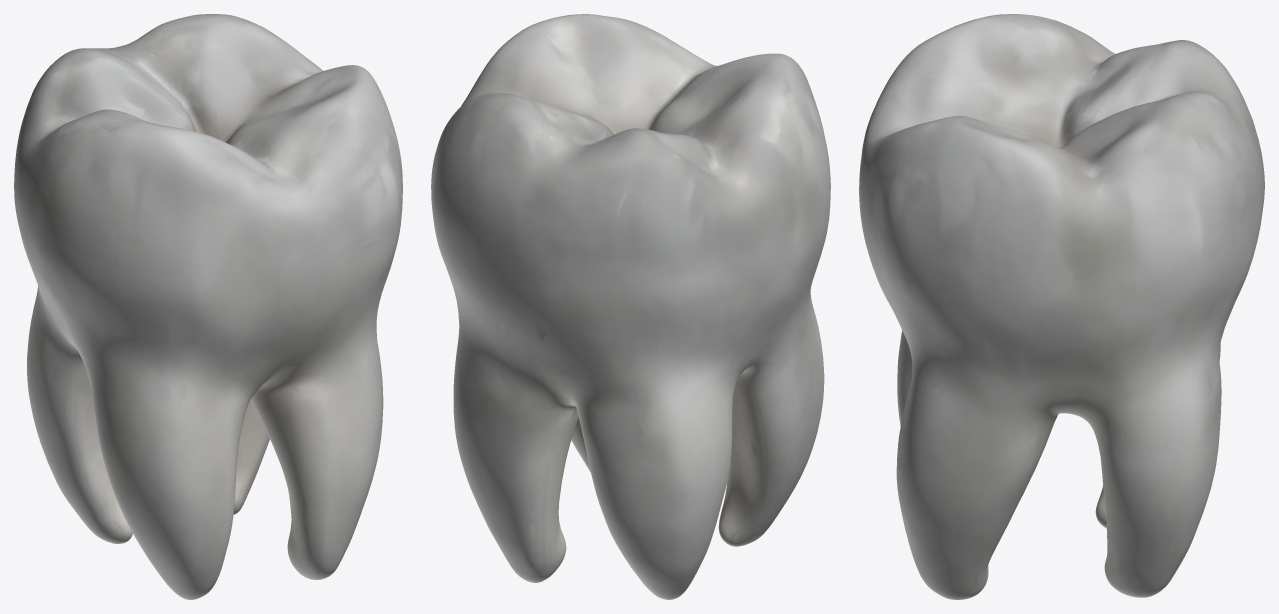
Rendered from tooth-lite.glb.
The picture shows the model from 3 angles, left to right: view 1: azimuth 30°, elevation 25°; view 2: azimuth 150°, elevation 25°; view 3: azimuth 270°, elevation 25°; orthographic projection. The views are drawn at different scales.
Visible parts, largest first — view 1: model; view 2: model; view 3: model.
Part boxes in pixels (x1=…): model: x1=14, y1=14, x2=402, y2=599; model: x1=431, y1=14, x2=830, y2=599; model: x1=859, y1=14, x2=1264, y2=599.
Size of the model in its own units: 1.36 by 1.9 by 1.4.
Materials: 1 (1 with a texture image).
